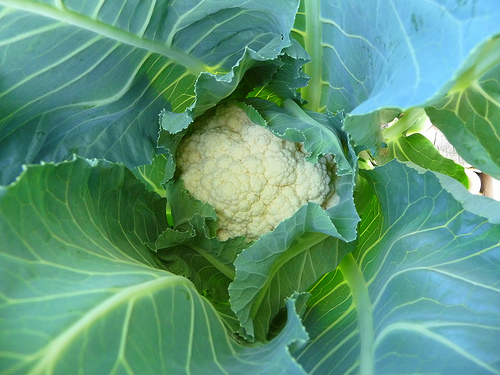cauliflower: (177, 101, 333, 244)
